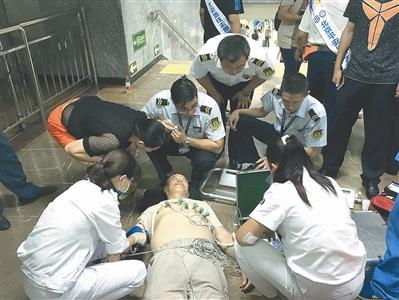10+: (1, 1, 397, 298)
down: (101, 166, 255, 300)
